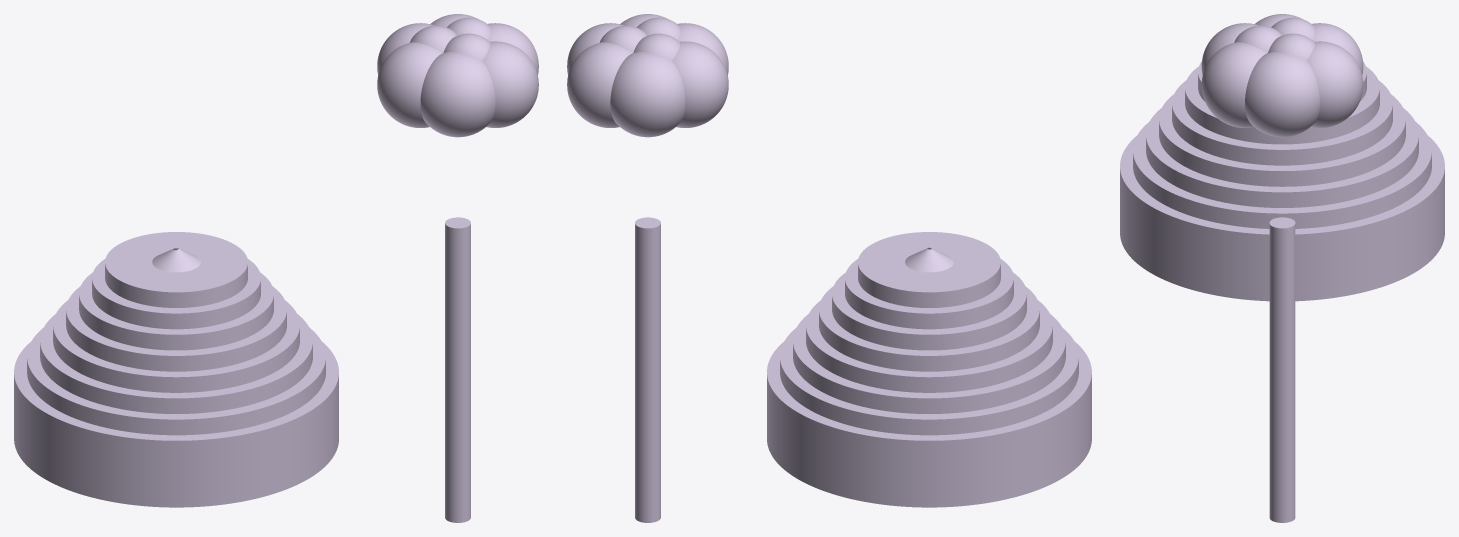
Rendered from shell_and_tulip.glb.
3 views of the same model, side by side, from view 1: azimuth 30°, elevation 25°; view 2: azimuth 150°, elevation 25°; view 3: azimuth 270°, elevation 25° (orthographic).
Size of the model in its own units: 0.053 by 0.0498 by 0.03.
